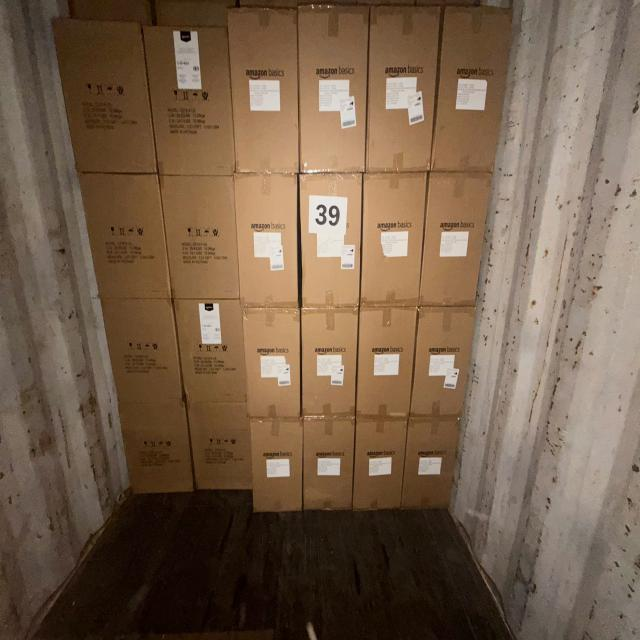Carton: (56, 14, 154, 173), (147, 23, 238, 174), (438, 4, 518, 172), (366, 5, 438, 174), (232, 4, 302, 176), (301, 4, 371, 175), (82, 170, 173, 298), (160, 174, 240, 298), (421, 171, 491, 307), (360, 172, 425, 307), (236, 172, 300, 307), (303, 173, 365, 310), (102, 297, 182, 403), (116, 397, 192, 495), (173, 300, 244, 404), (414, 306, 478, 418), (356, 306, 414, 417), (246, 308, 303, 420), (301, 310, 356, 419), (189, 402, 254, 491), (403, 420, 462, 512), (252, 419, 304, 516), (302, 417, 353, 511), (355, 418, 406, 511)
